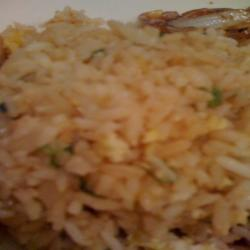rice: (9, 22, 244, 242)
